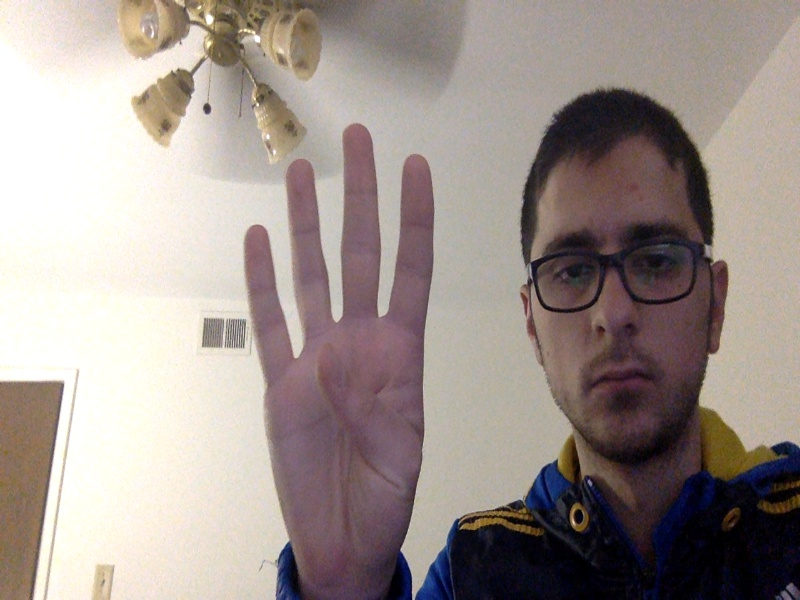4-hand: (241, 123, 436, 600)
